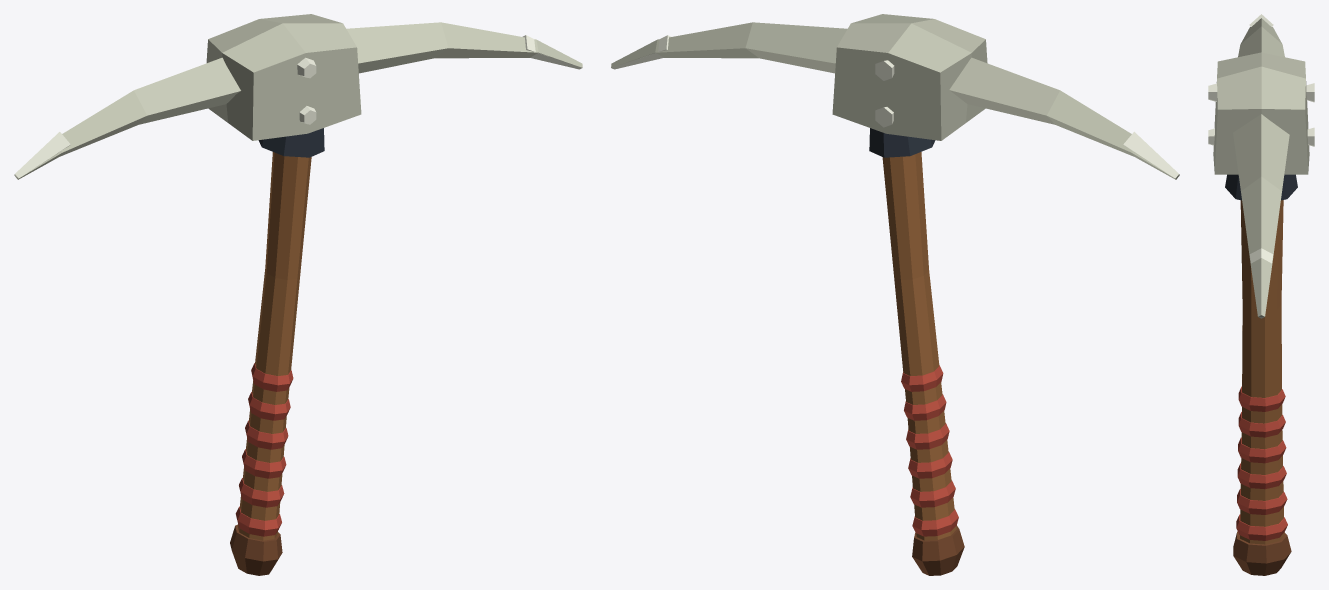
Rendered from bogsilver_pickaxe_world.glb.
3 renders of one model, left to right at view 1: azimuth 30°, elevation 25°; view 2: azimuth 150°, elevation 25°; view 3: azimuth 270°, elevation 25°, orthographic. The views are drawn at different scales.
Parts seen in each view (by area): view 1: Pick_Eye.006, Handle.014, Pick_Arm_Right.006, Pick_Arm_Left.006, Handle_Butt.014, Bogsilver_Socket, Pick_Tip_Left.006, Grip_Wrap_1.014, Grip_Wrap_2.014, Grip_Wrap_3.014; view 2: Pick_Eye.006, Handle.014, Pick_Arm_Left.006, Pick_Arm_Right.006, Handle_Butt.014, Bogsilver_Socket, Pick_Tip_Left.006, Grip_Wrap_1.014, Grip_Wrap_2.014, Grip_Wrap_3.014; view 3: Pick_Eye.006, Handle.014, Pick_Arm_Right.006, Handle_Butt.014, Pick_Arm_Left.006, Grip_Wrap_1.014, Grip_Wrap_2.014, Grip_Wrap_3.014, Grip_Wrap_4.014, Grip_Wrap_6.014, Grip_Wrap_5.014, Bogsilver_Socket (+3 smaller).
Part boxes in pixels (x1,y1,x2,y2): Pick_Eye.006: [206, 14, 361, 140]; Handle.014: [237, 152, 311, 540]; Pick_Arm_Right.006: [346, 22, 582, 73]; Pick_Arm_Left.006: [14, 57, 240, 179]; Handle_Butt.014: [230, 524, 282, 575]; Bogsilver_Socket: [258, 128, 324, 157]; Pick_Tip_Left.006: [14, 132, 70, 178]; Grip_Wrap_1.014: [235, 506, 281, 536]; Grip_Wrap_2.014: [239, 478, 284, 507]; Grip_Wrap_3.014: [242, 449, 286, 478]; Pick_Eye.006: [832, 14, 987, 140]; Handle.014: [882, 152, 956, 540]; Pick_Arm_Left.006: [949, 57, 1178, 179]; Pick_Arm_Right.006: [611, 22, 847, 73]; Handle_Butt.014: [912, 525, 964, 575]; Bogsilver_Socket: [869, 128, 935, 157]; Pick_Tip_Left.006: [1123, 131, 1179, 178]; Grip_Wrap_1.014: [912, 509, 958, 536]; Grip_Wrap_2.014: [910, 480, 955, 507]; Grip_Wrap_3.014: [908, 452, 952, 478]; Pick_Eye.006: [1213, 52, 1309, 174]; Handle.014: [1240, 200, 1284, 544]; Pick_Arm_Right.006: [1233, 114, 1289, 316]; Handle_Butt.014: [1233, 531, 1291, 575]; Pick_Arm_Left.006: [1238, 18, 1284, 57]; Grip_Wrap_1.014: [1236, 514, 1287, 540]; Grip_Wrap_2.014: [1237, 489, 1287, 514]; Grip_Wrap_3.014: [1237, 463, 1286, 489]; Grip_Wrap_4.014: [1238, 437, 1286, 463]; Grip_Wrap_6.014: [1238, 386, 1285, 411]; Grip_Wrap_5.014: [1238, 412, 1285, 437]; Bogsilver_Socket: [1225, 174, 1297, 200].
Bounding box in the file's own units: 1.41 × 1.28 × 0.238.
